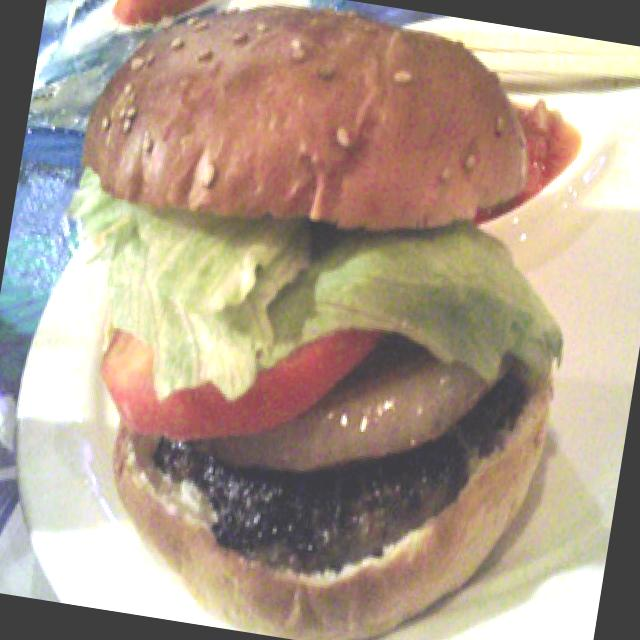Hamburger: (3, 0, 618, 640)
